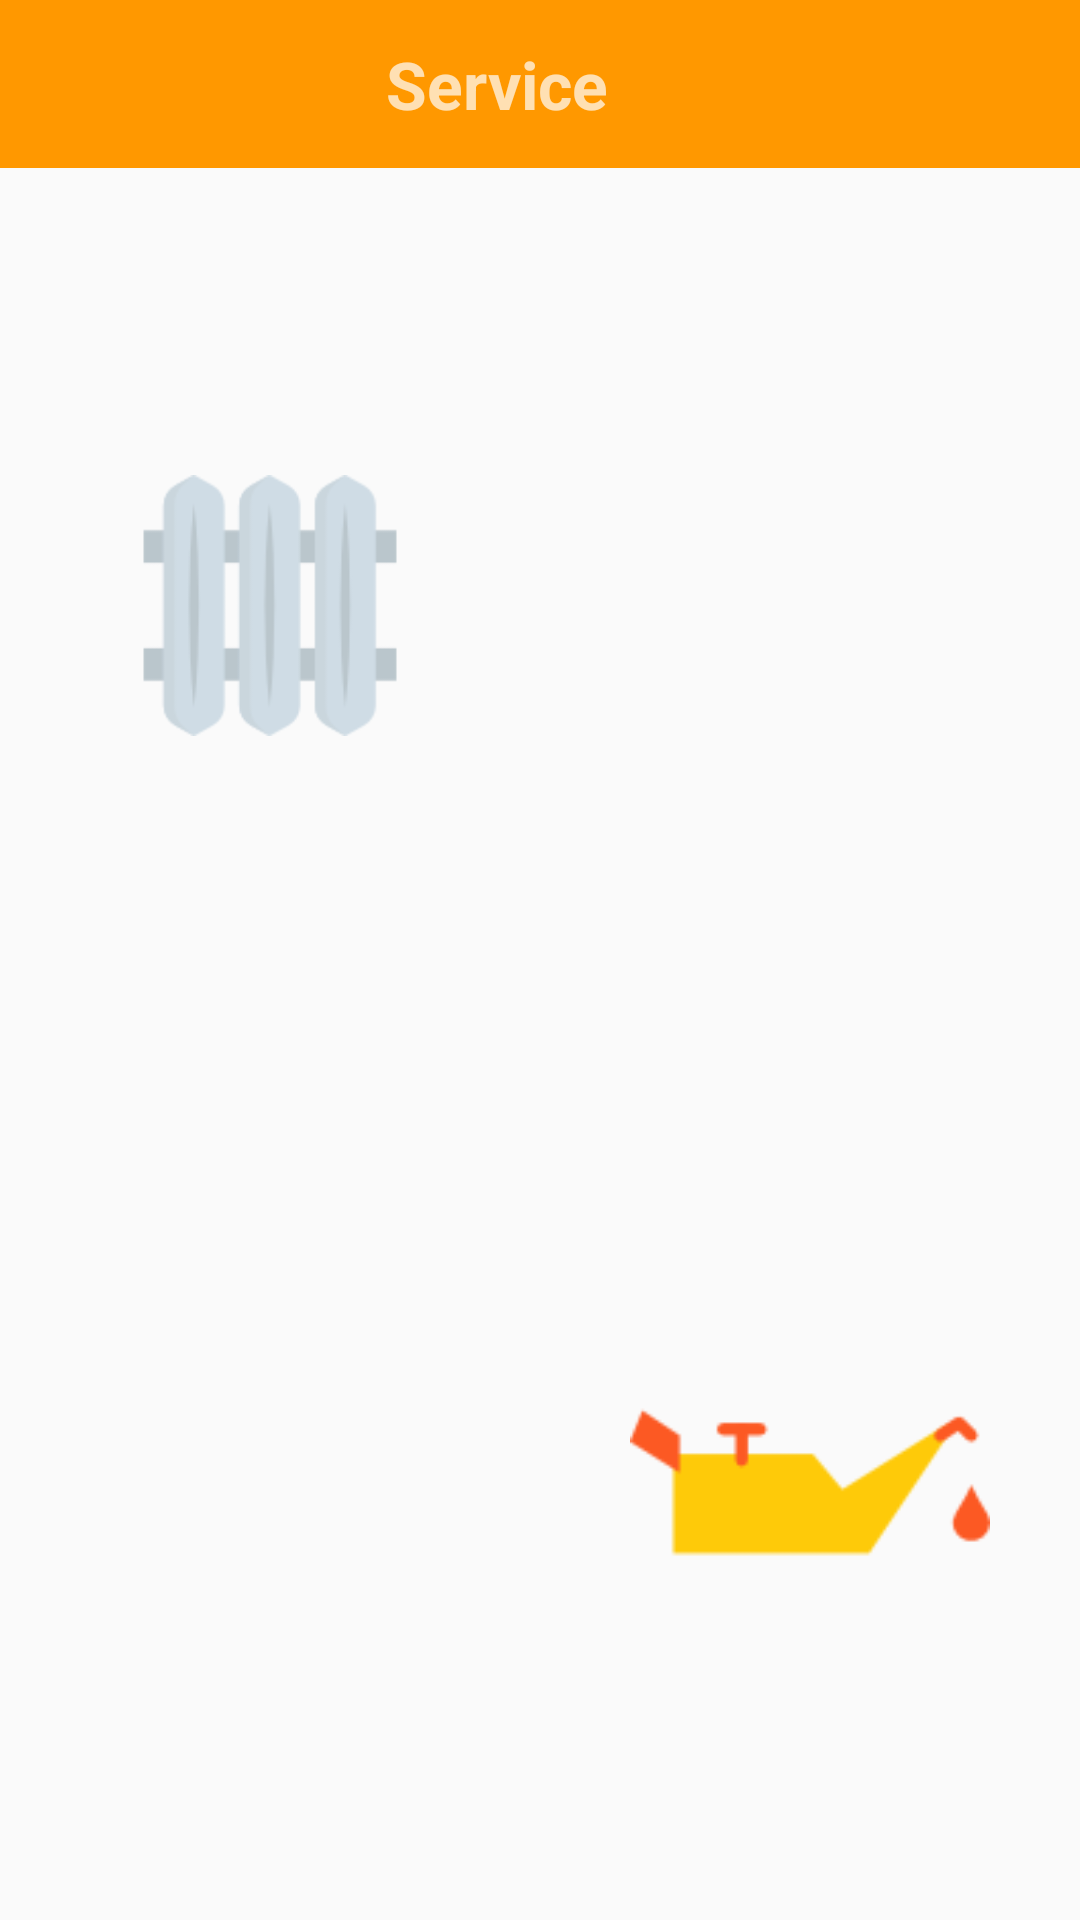

Icon bounding boxes for this 1080px×1920px phone screenshot, format (x1, y1, x2, y2):
oil: (630, 1410, 990, 1556)
radiators: (143, 475, 397, 736)
